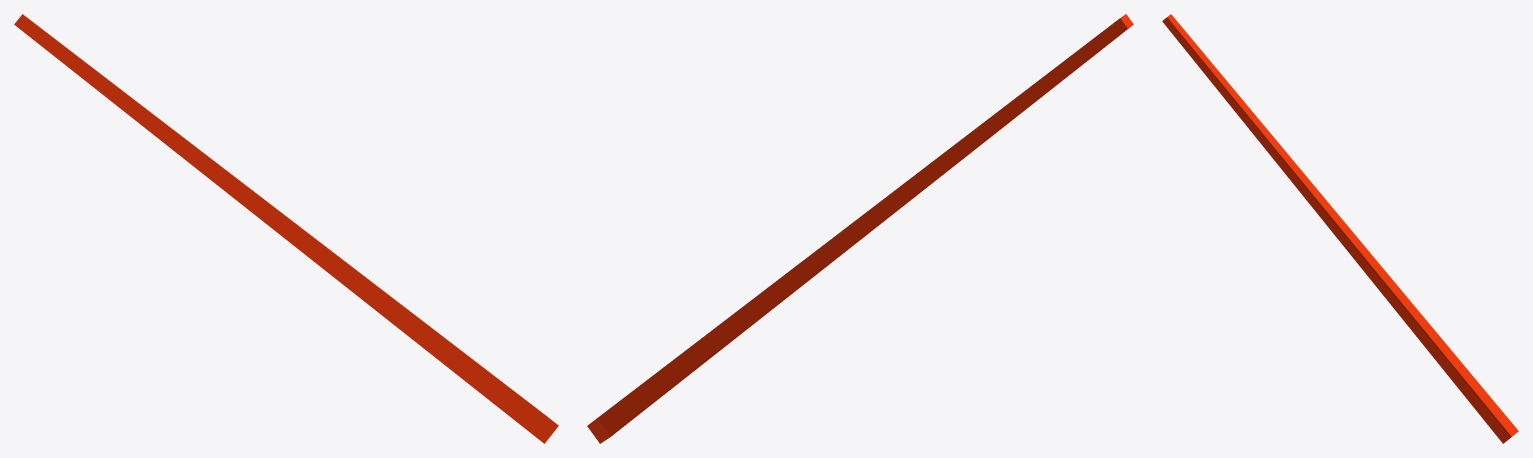
Rendered from Event_420604493_EBrechit_28.fbx.
3 renders of one model, left to right at view 1: azimuth 30°, elevation 25°; view 2: azimuth 150°, elevation 25°; view 3: azimuth 330°, elevation 25°, orthographic. The views are drawn at different scales.
Parts seen in each view (by area): view 1: Model; view 2: Model; view 3: Model.
Part boxes in pixels (x1=…): Model: x1=14, y1=14, x2=558, y2=443; Model: x1=587, y1=14, x2=1133, y2=443; Model: x1=1162, y1=14, x2=1518, y2=443.
Bounding box in the file's own units: 2.77 × 2.71 × 0.1921.
